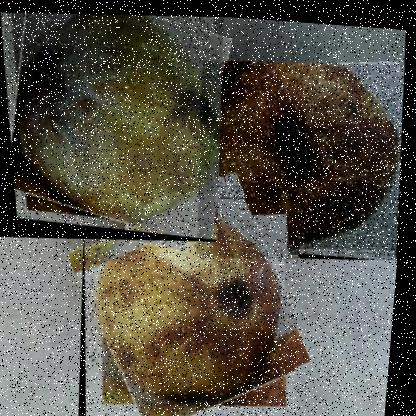guava_rotten: (0, 0, 236, 250), (72, 180, 315, 415), (190, 44, 413, 264)
